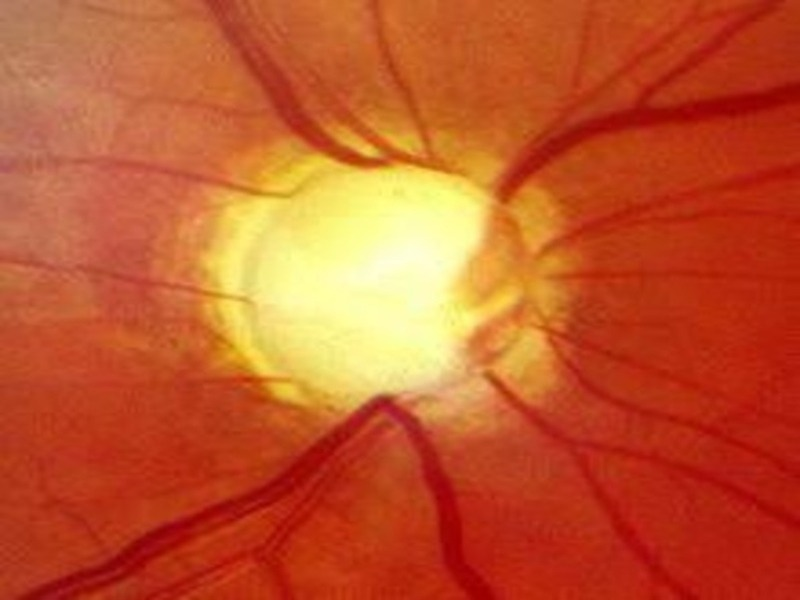Optic Cup: (205, 160, 483, 398)
Optic Disc: (193, 129, 576, 418)
